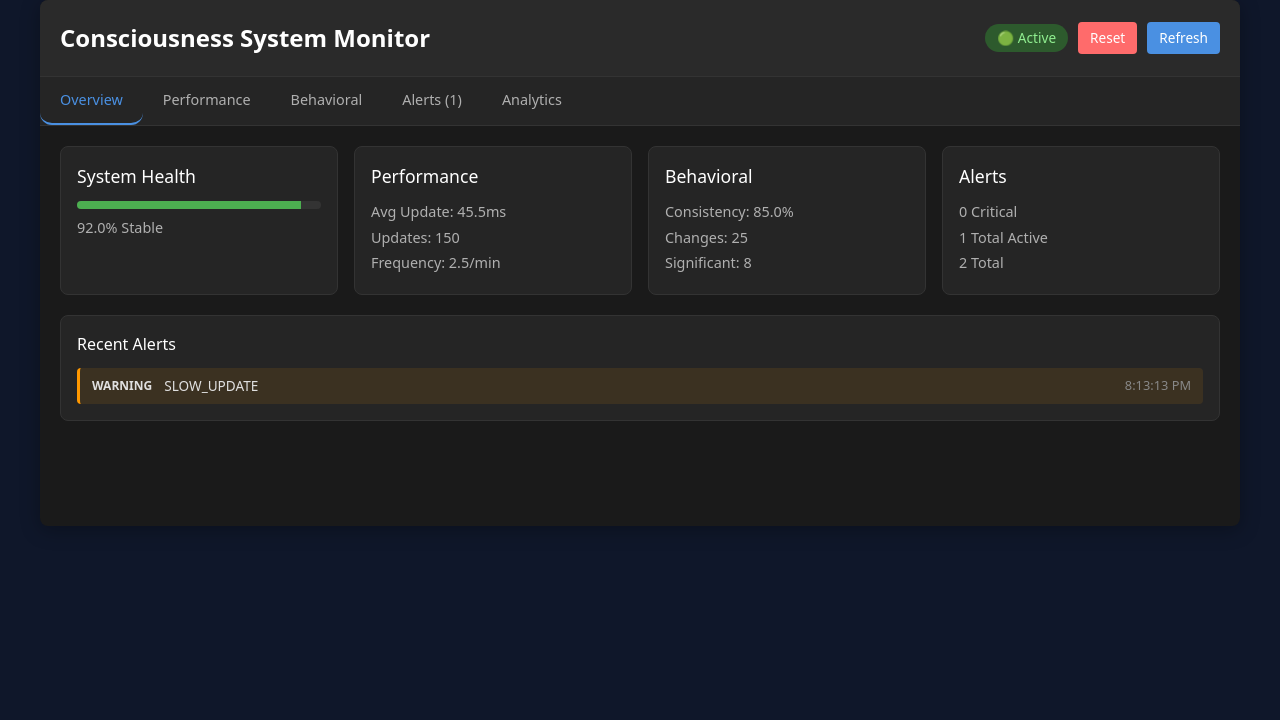
Test: ConsciousnessMonitoringDashboard › Behavioral Tab › should display behavioral metrics
Click the button "Behavioral" at (326, 101), box 271,77 -> 382,125
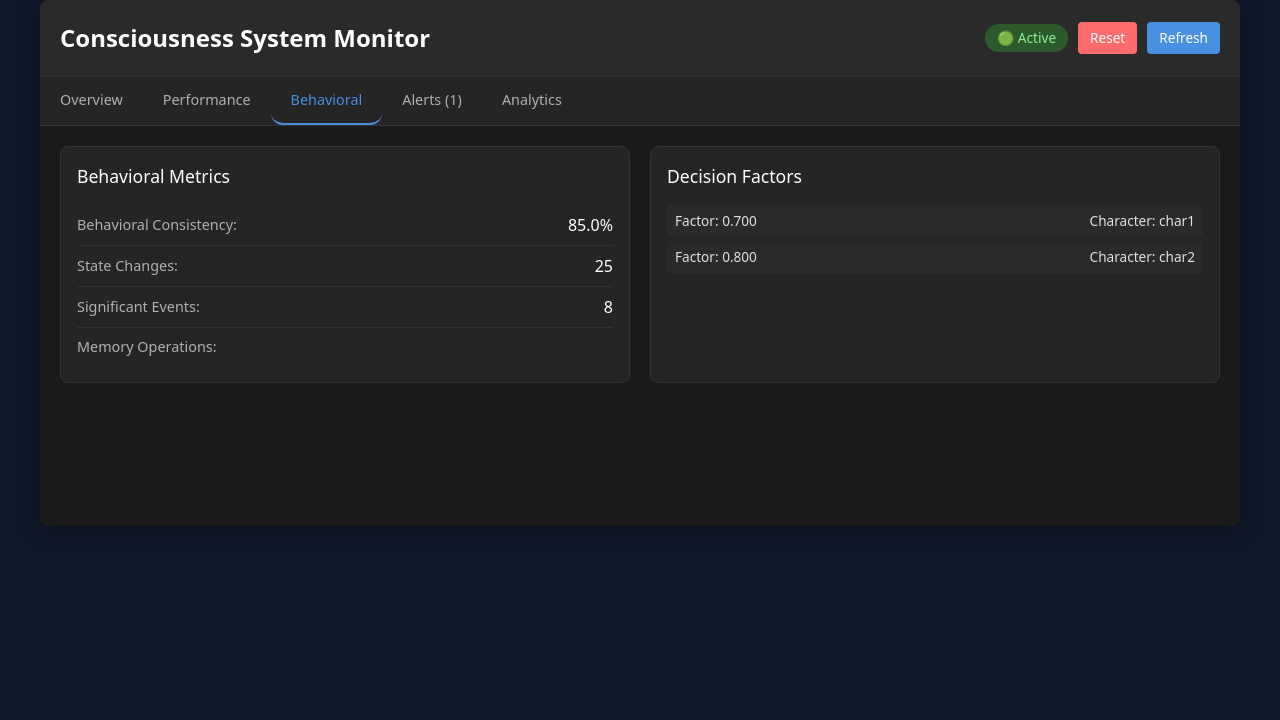
Expected: the text "Behavioral Consistency:" is shown, 77,214 -> 237,236
Now the heading "Behavioral Metrics" is shown, box 77,164 -> 230,188
Now the text "State Changes:" is shown, box 77,255 -> 178,277
